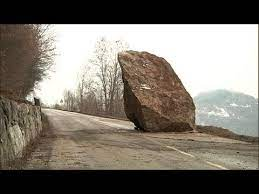obstacle: (114, 47, 206, 145)
